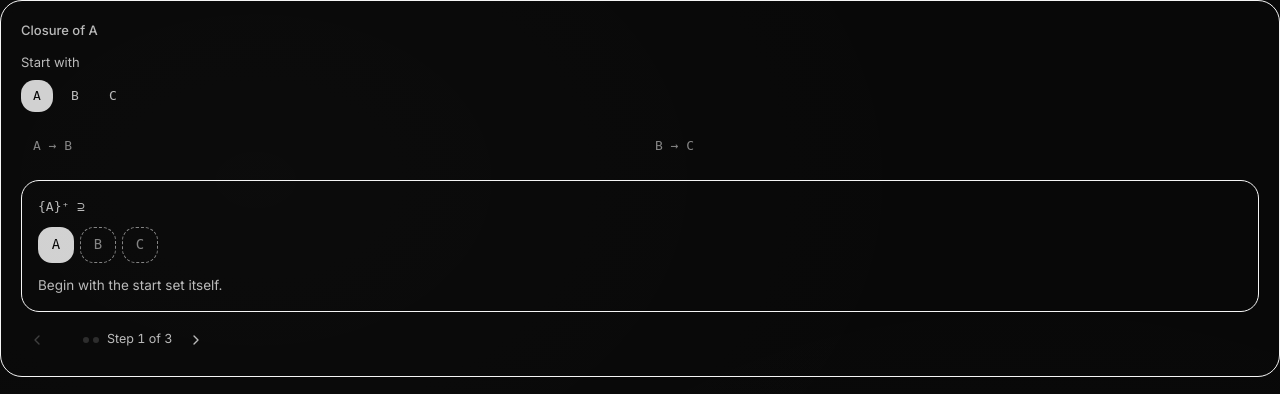
Test case: AnswerBlockView › closure steps forward to the final set and back again
The width and height of the screenshot is (1280, 394).
expect the text "Step 1 of 3" is shown: met, box [107, 330, 172, 349]
Click the button named "Next step". click: (196, 340)
box: [180, 324, 212, 356]
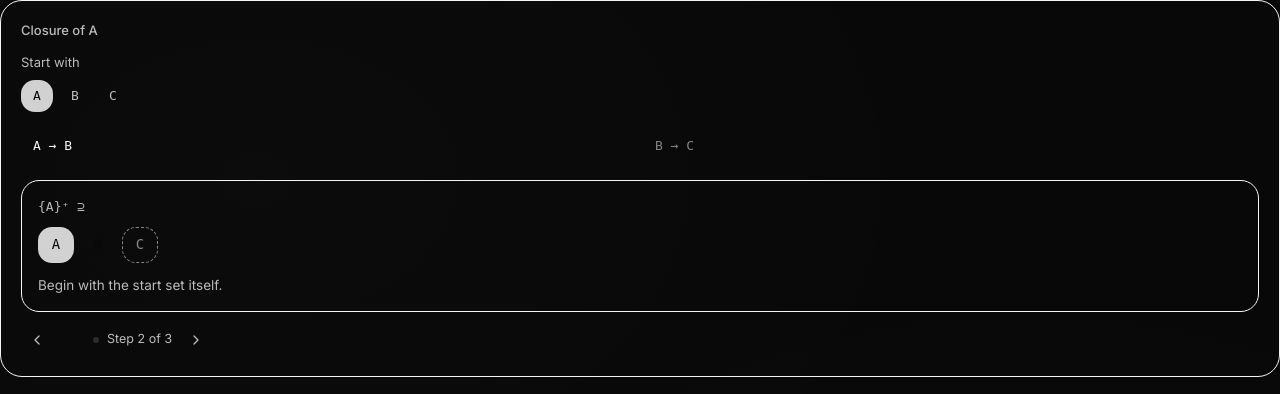
Click the button named "Next step". click: (196, 340)
box: [180, 324, 212, 356]
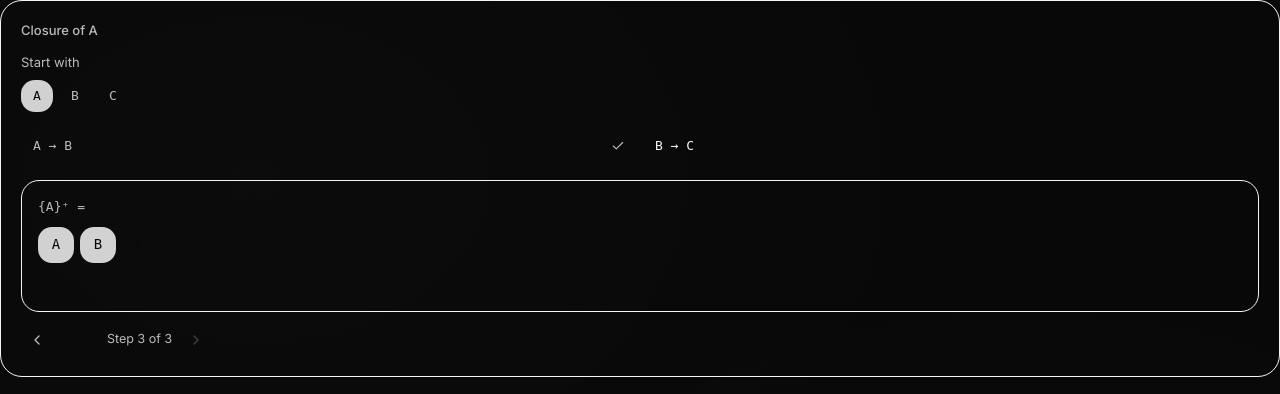
expect the text "Step 3 of 3" is shown: met, box [107, 330, 172, 349]
Click the button named "Previous step". click: (37, 340)
box: [21, 324, 53, 356]
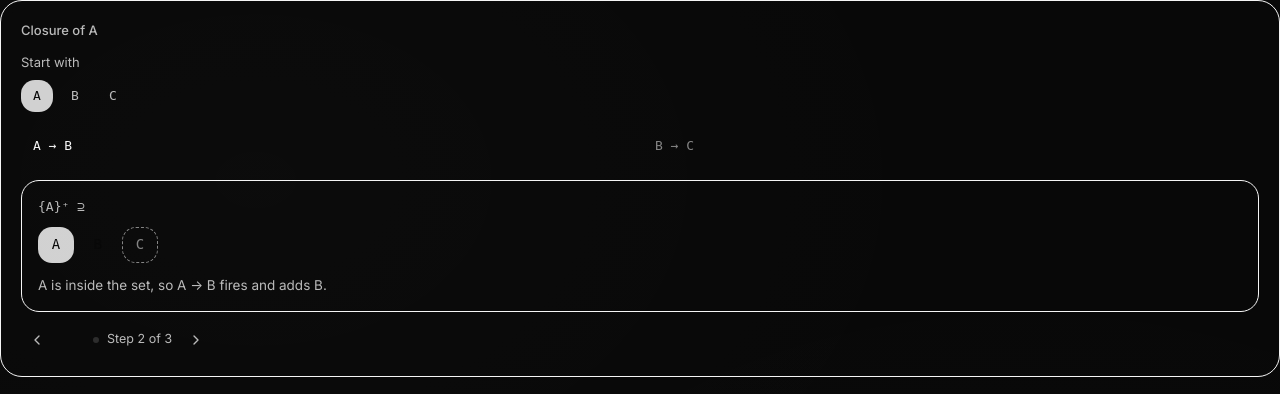
expect the text "Step 2 of 3" is shown: met, box [107, 330, 172, 349]
